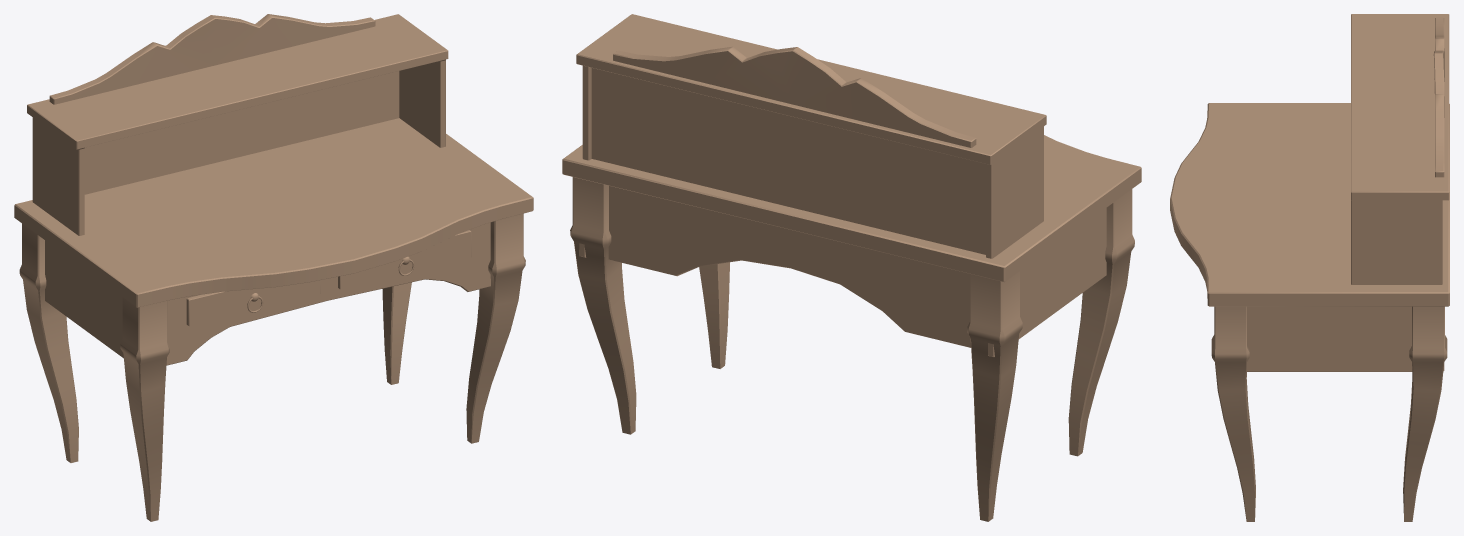
Rendered from desk.fbx.
The picture shows the model from 3 angles, left to right: view 1: azimuth 30°, elevation 25°; view 2: azimuth 150°, elevation 25°; view 3: azimuth 270°, elevation 25°; orthographic projection. The views are drawn at different scales.
Visible parts, largest first — view 1: Desk01.032, Desk01.001, Desk01.002; view 2: Desk01.032; view 3: Desk01.032.
Boxes of the visible parts, x1,y1,x2,y2 form: Desk01.032: (14, 14, 533, 521); Desk01.001: (186, 280, 320, 326); Desk01.002: (338, 230, 471, 289); Desk01.032: (562, 14, 1141, 521); Desk01.032: (1170, 14, 1449, 521).
Bounding box in the file's own units: 137 × 130 × 85.14.
